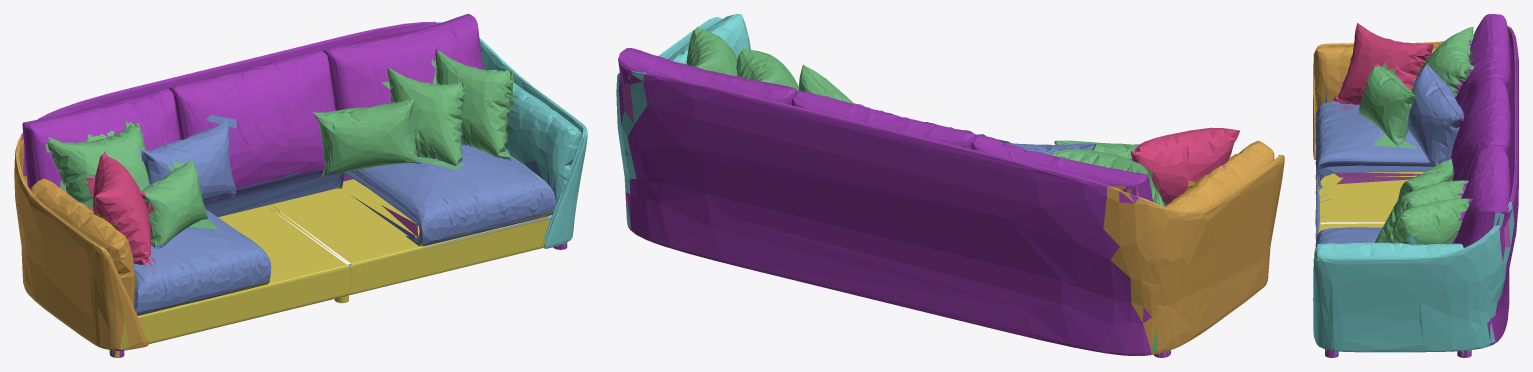
3 renders of one model, left to right at view 1: azimuth 30°, elevation 25°; view 2: azimuth 150°, elevation 25°; view 3: azimuth 270°, elevation 25°, orthographic. The views are drawn at different scales.
Parts seen in each view (by area): view 1: world; view 2: world; view 3: world.
Boxes of the visible parts, x1=… form: world: x1=14, y1=14, x2=587, y2=357; world: x1=616, y1=14, x2=1284, y2=357; world: x1=1313, y1=14, x2=1518, y2=357.
Size of the model in its own units: 2.79 by 0.8949 by 1.12.
